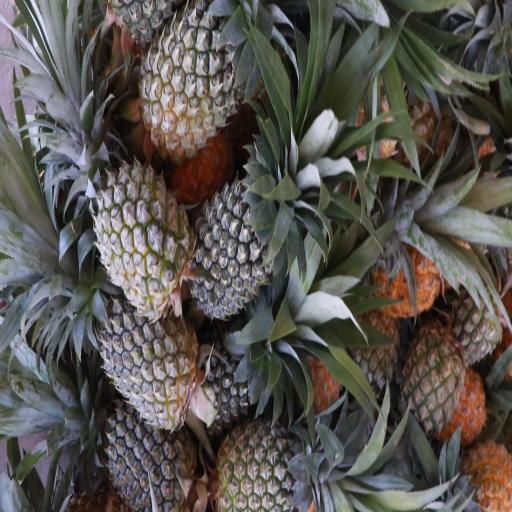------------------------------: (145, 9, 251, 143), (99, 156, 187, 308), (214, 420, 310, 512), (402, 325, 467, 429)
Pineapple - v8 v1: (377, 221, 444, 316), (457, 431, 512, 512)
